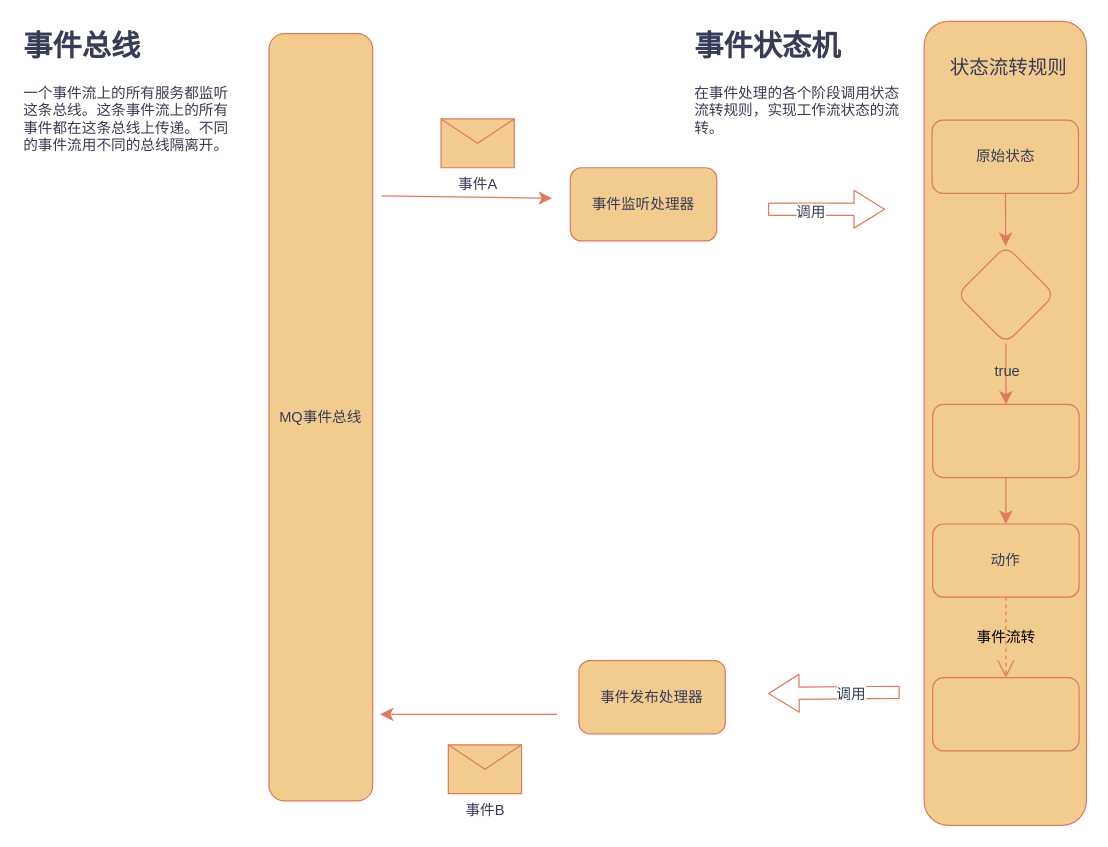
This 1108x847 diagram has some shape labels left out. The shapes that lost their labels are listed below. From the top down, each one's centre as x and y in pixels, then its label:
At (x=1005, y=294): "条件".
At (x=1005, y=440): "流转到目标状态".
At (x=1005, y=713): "触发下一事件".
